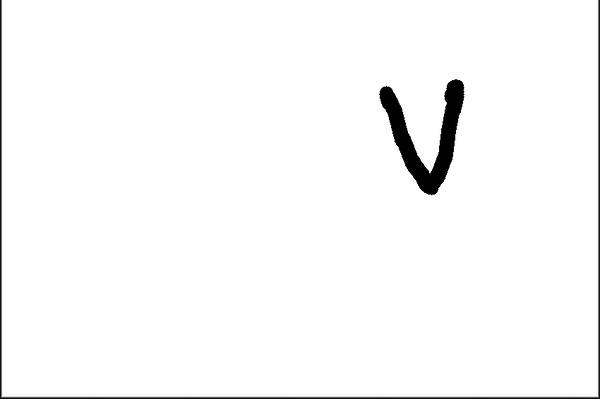V: (366, 72, 487, 208)
